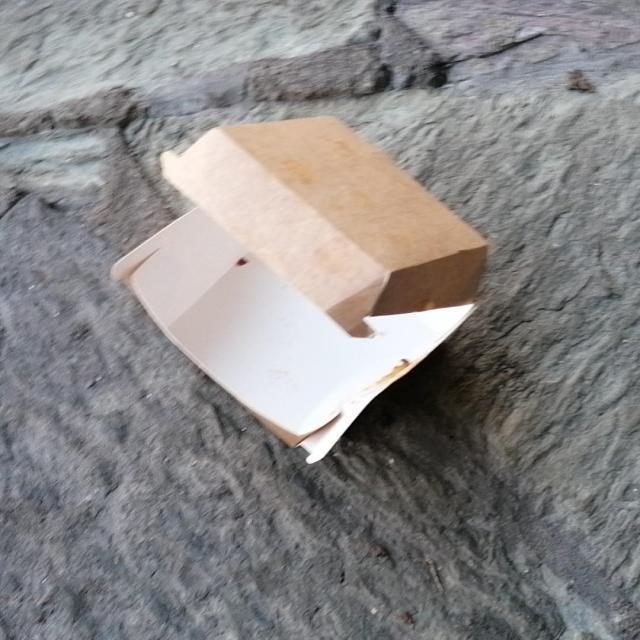Paper: (107, 112, 492, 468)
